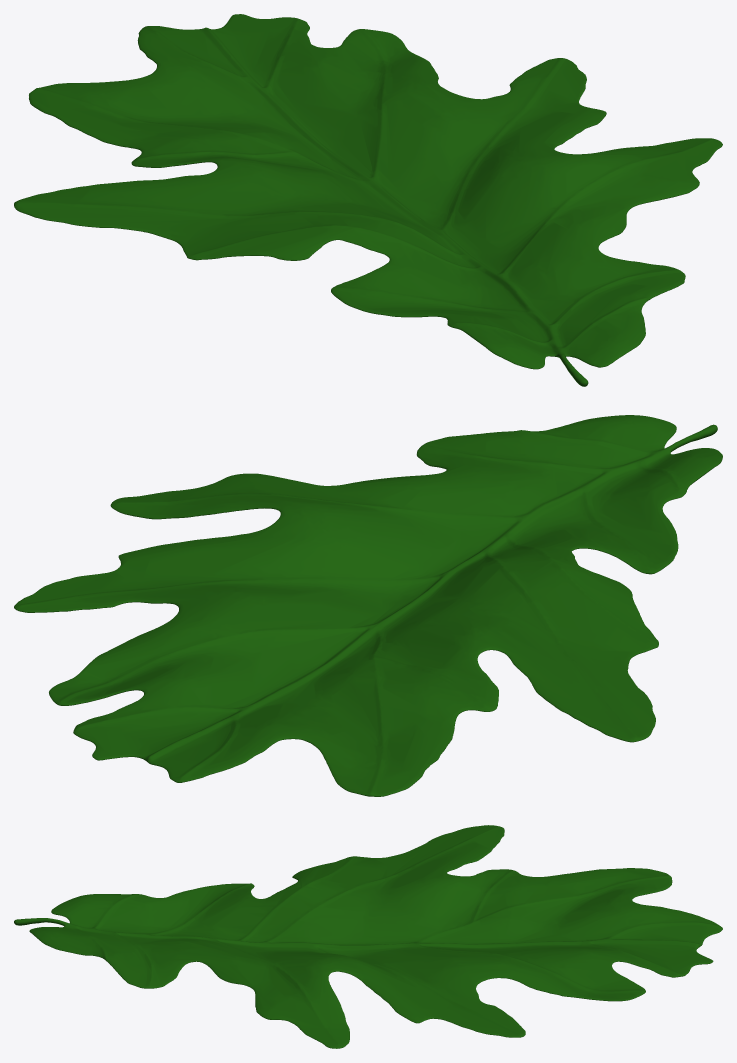
The model's file is quercus.glb.
3 views of the same model, one above another, from view 1: azimuth 30°, elevation 25°; view 2: azimuth 150°, elevation 25°; view 3: azimuth 270°, elevation 25° (orthographic). The views are drawn at different scales.
Parts seen in each view (by area): view 1: Mesh; view 2: Mesh; view 3: Mesh.
Boxes of the visible parts, x1,y1,x2,y2 form: Mesh: (14, 14, 722, 386); Mesh: (14, 415, 722, 796); Mesh: (14, 825, 722, 1048).
Size of the model in its own units: 4.58 by 0.3238 by 6.22.
